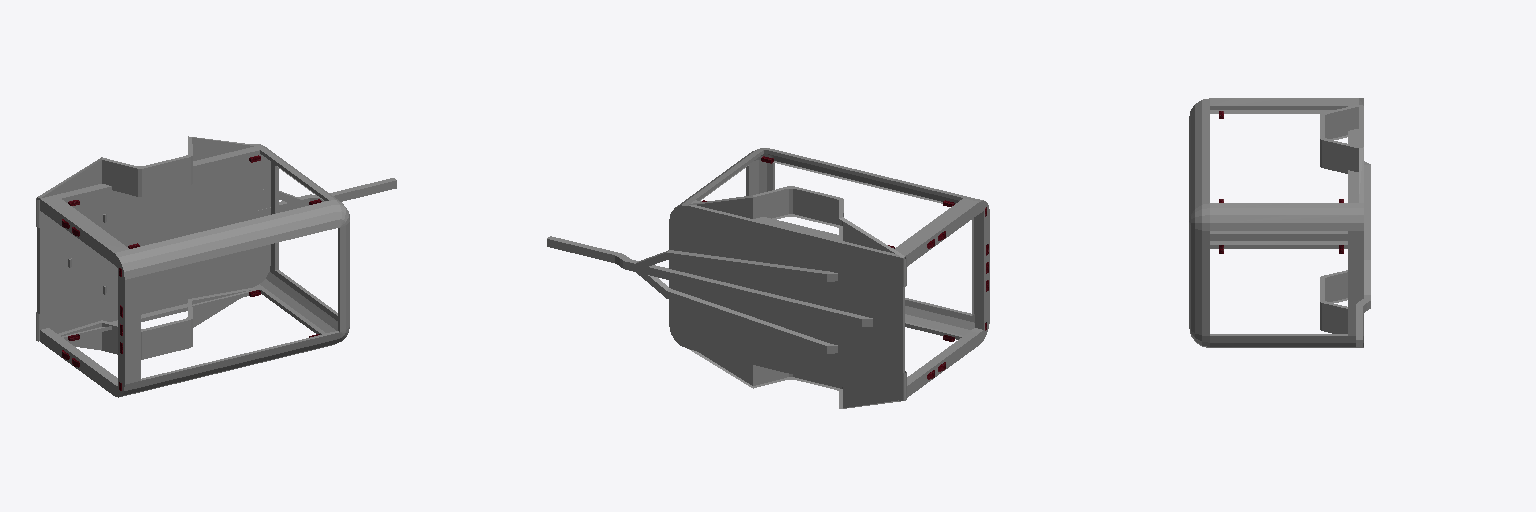
3 views of the same model, side by side, from view 1: azimuth 30°, elevation 25°; view 2: azimuth 150°, elevation 25°; view 3: azimuth 270°, elevation 25° (orthographic).
Parts seen in each view (by area): view 1: 3_-_Default, 2_-_Default; view 2: 3_-_Default, 2_-_Default; view 3: 3_-_Default.
Boxes of the visible parts, <box> form: 3_-_Default: <box>36,136,396,397</box>; 2_-_Default: <box>62,155,321,390</box>; 3_-_Default: <box>547,148,989,408</box>; 2_-_Default: <box>702,156,988,379</box>; 3_-_Default: <box>1189,98,1370,347</box>.
Bounding box in the file's own units: 3.98 × 2.02 × 1.75.
2 materials, 1 textured.